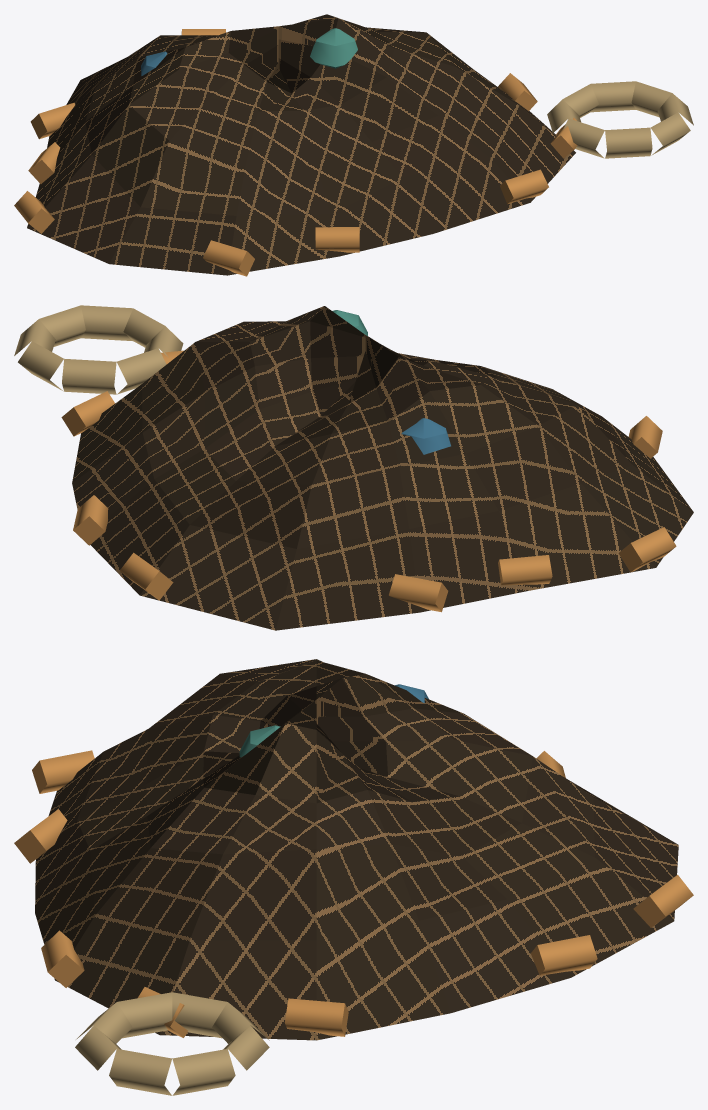
The model's file is net_pile.glb.
3 views of the same model, one above another, from view 1: azimuth 30°, elevation 25°; view 2: azimuth 150°, elevation 25°; view 3: azimuth 270°, elevation 25° (orthographic). The views are drawn at different scales.
Parts seen in each view (by area): view 1: Net, Floats; view 2: Net, Floats; view 3: Net, Floats.
Part boxes in pixels (x1,y1,x2,y2): Net: (27,14,575,275); Floats: (14,28,693,276); Net: (72,306,693,630); Floats: (14,305,676,612); Net: (35,659,678,1040); Floats: (14,684,693,1095).
Bounding box in the file's own units: 2.24 × 0.509 × 1.65.
2 materials, 2 textured.
